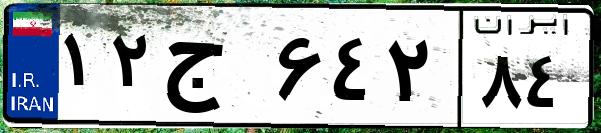1: (57, 26, 110, 100)
2: (385, 28, 445, 110), (110, 28, 158, 98)
4: (330, 28, 385, 110), (525, 38, 570, 115)
6: (270, 28, 330, 110)
8: (475, 38, 525, 113)
ج: (158, 20, 270, 120)
